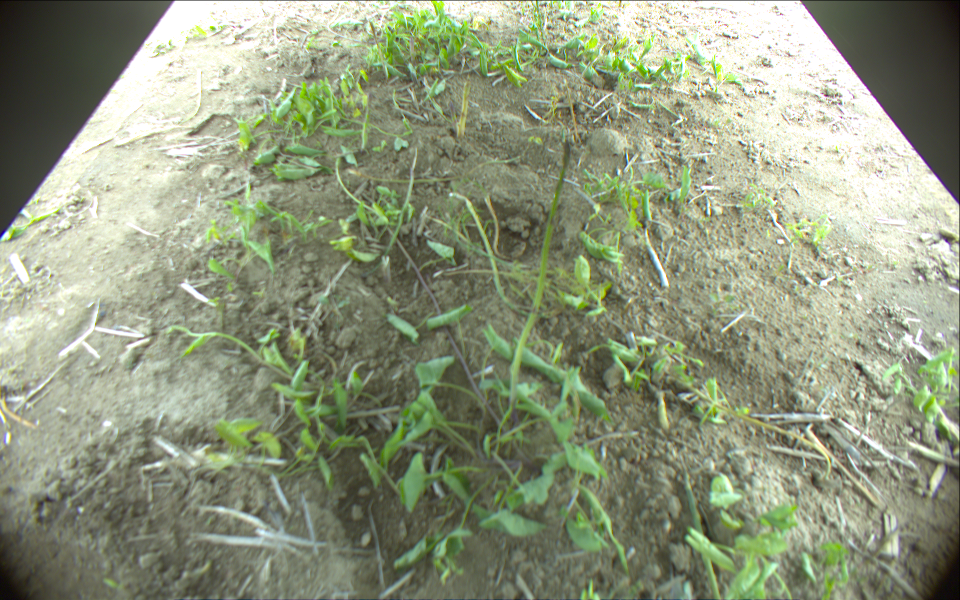aspa: (508, 138, 571, 416), (688, 466, 725, 600), (369, 20, 388, 76), (458, 74, 474, 136), (360, 89, 376, 150), (515, 37, 525, 74), (408, 32, 417, 73)
